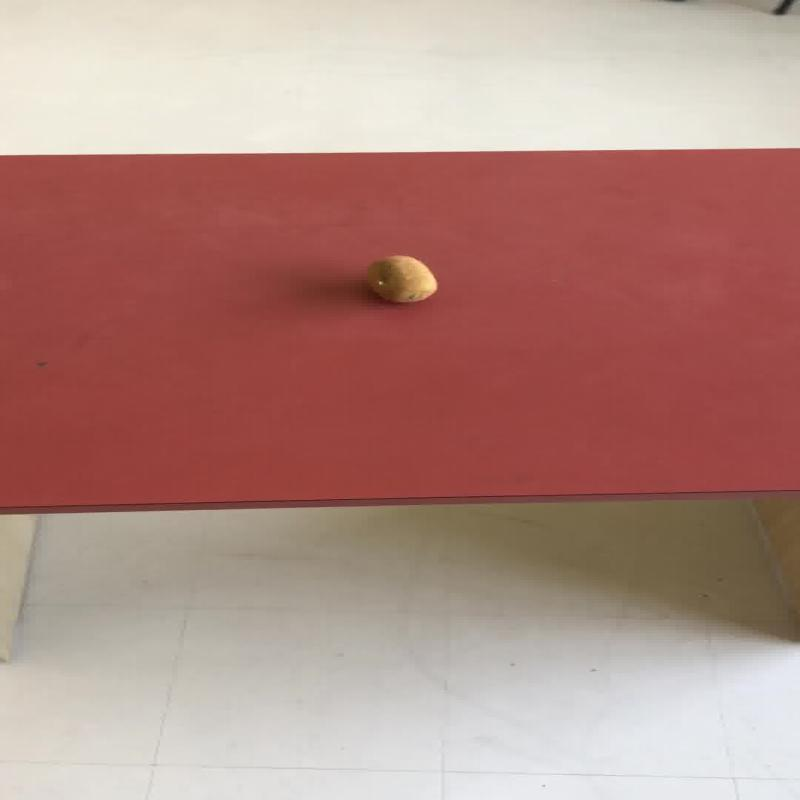kiwi: (364, 254, 437, 303)
